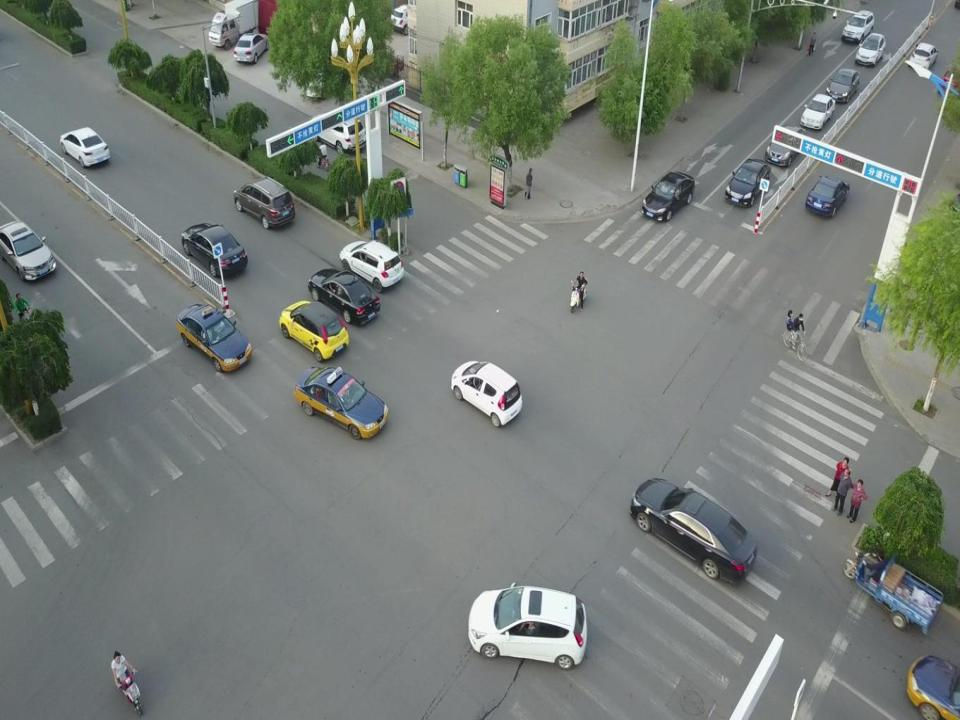car: (630, 477, 756, 584), (469, 583, 588, 669), (294, 364, 389, 439), (176, 302, 253, 371), (451, 359, 522, 428), (278, 300, 350, 364), (308, 266, 381, 325), (181, 222, 248, 278), (905, 653, 960, 719), (339, 240, 404, 294), (4, 218, 56, 282), (233, 176, 295, 229), (640, 170, 696, 222), (724, 157, 772, 209), (308, 113, 366, 155), (58, 126, 110, 168), (805, 173, 850, 218), (765, 124, 807, 168), (300, 60, 337, 100), (799, 93, 837, 131), (826, 69, 860, 105), (842, 9, 875, 45), (233, 32, 269, 65), (855, 32, 886, 68), (908, 42, 939, 72)
truck: (208, 0, 260, 51)
